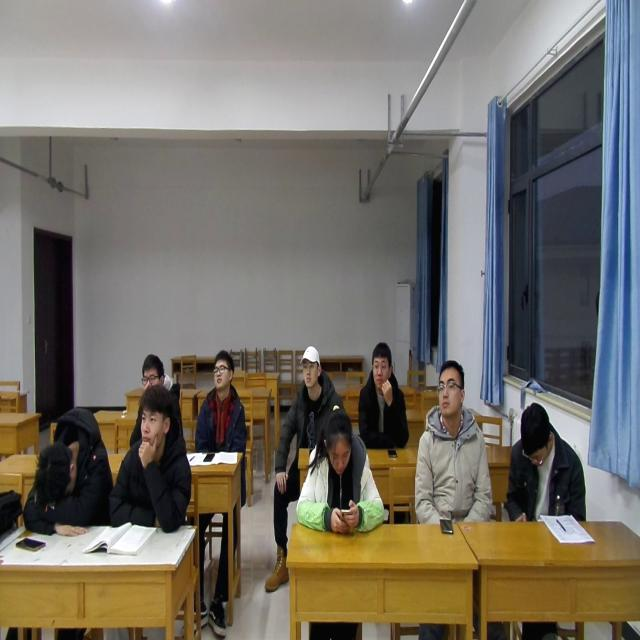bow: (20, 401, 114, 541)
down: (514, 398, 554, 472), (320, 406, 358, 482)
lookup: (134, 376, 170, 456), (433, 354, 467, 420), (367, 337, 395, 397), (208, 341, 236, 393), (136, 348, 166, 394), (296, 340, 322, 392)
sit: (412, 358, 494, 528), (105, 384, 194, 534), (296, 402, 386, 534), (504, 396, 586, 524), (274, 343, 338, 453), (193, 346, 250, 456), (356, 342, 412, 451), (134, 348, 182, 428)
